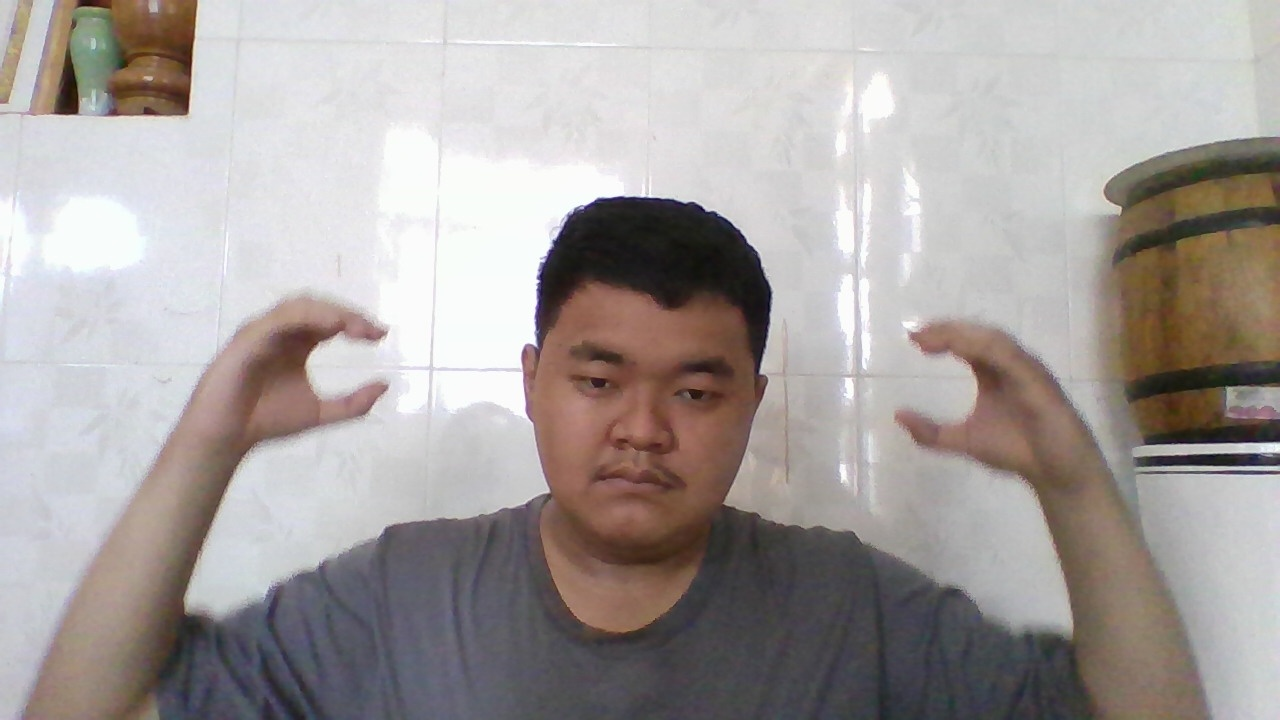C: (890, 314, 1068, 496), (206, 289, 392, 457)
